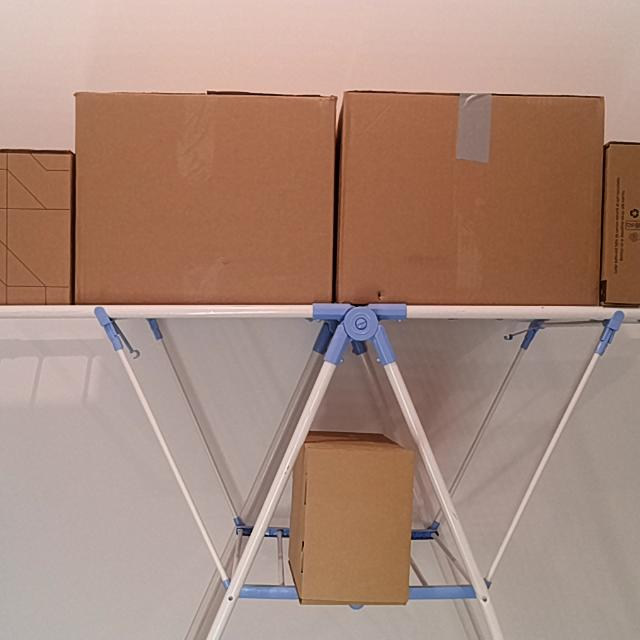box: (342, 95, 604, 303), (77, 94, 335, 304), (308, 446, 409, 603), (0, 151, 74, 305), (607, 142, 640, 305)
